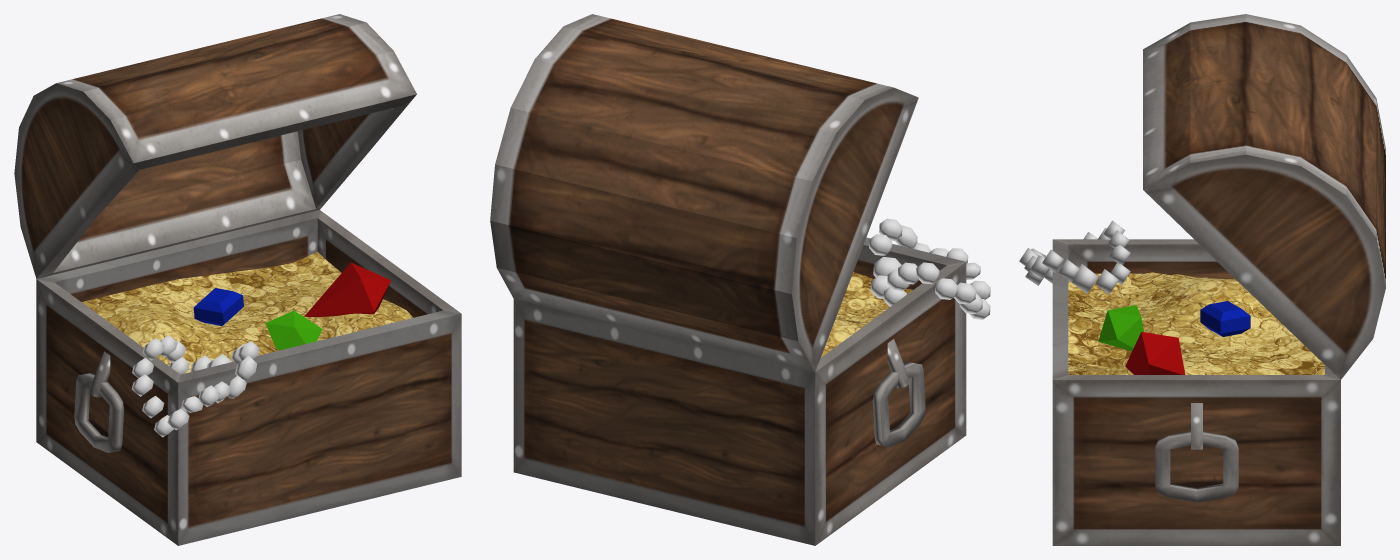
The model's file is treasure_chest.fbx.
3 renders of one model, left to right at view 1: azimuth 30°, elevation 25°; view 2: azimuth 150°, elevation 25°; view 3: azimuth 270°, elevation 25°, orthographic. The views are drawn at different scales.
Parts seen in each view (by area): view 1: treasurechest; view 2: treasurechest; view 3: treasurechest.
Boxes of the visible parts, box(x1,y1,x2,y2) form: treasurechest: box(14, 14, 461, 545); treasurechest: box(490, 14, 990, 545); treasurechest: box(1019, 14, 1385, 545).
Bounding box in the file's own units: 3.36 × 3.75 × 3.19.
Materials: 6 (2 with a texture image).
